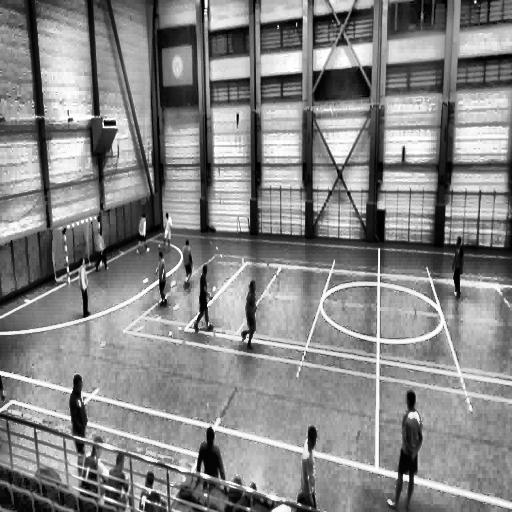ball: (156, 242, 162, 252)
player: (384, 387, 422, 510), (70, 375, 88, 480), (298, 426, 318, 510), (193, 265, 213, 333), (240, 278, 255, 350), (78, 257, 90, 318), (453, 237, 464, 296), (157, 250, 168, 307), (95, 230, 108, 272), (136, 214, 149, 255), (182, 239, 192, 285), (163, 212, 172, 250)
